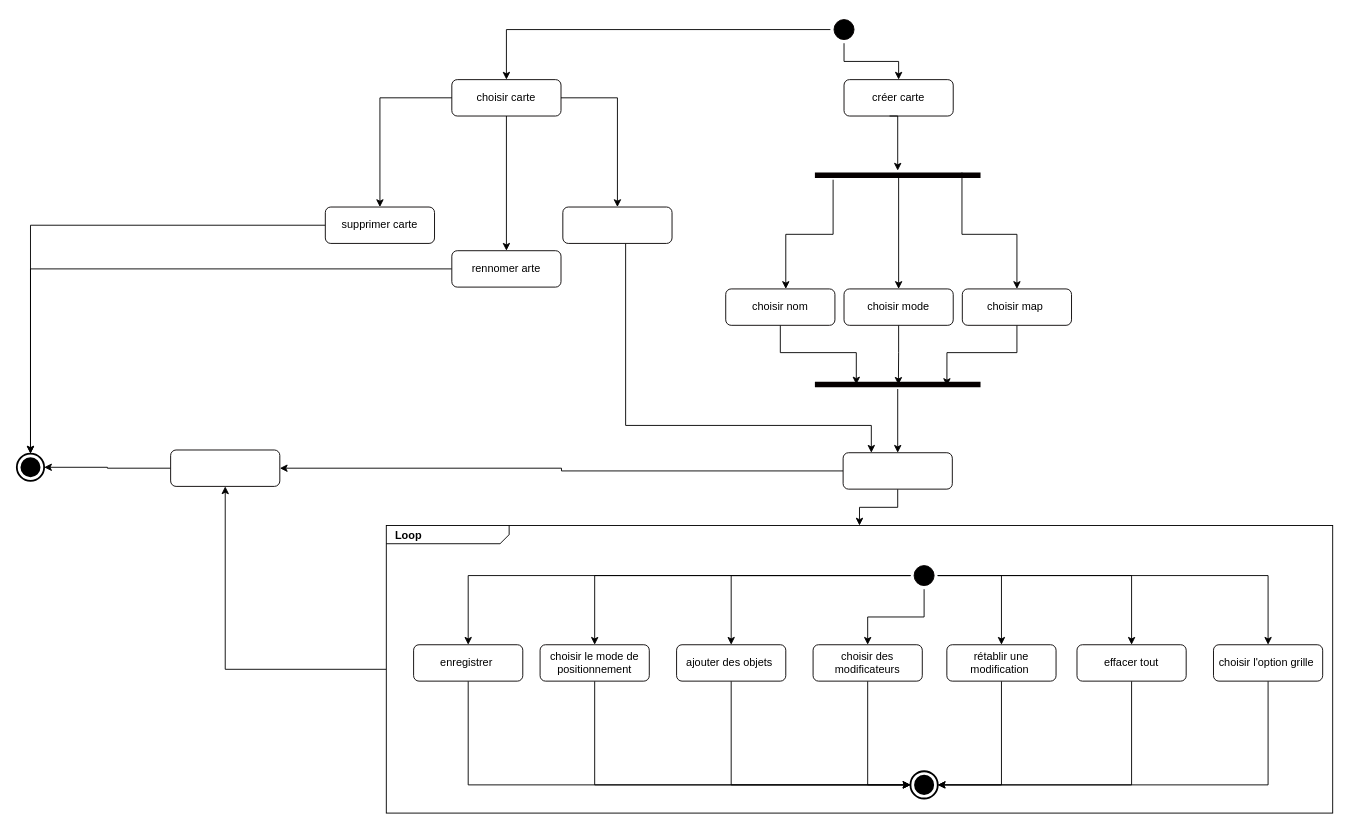
This 1349x829 diagram has some shape labels left out. Here are the shapes that lost their labels. From the top down, the box of each, then its label:
(562, 206, 672, 243): modifier carte
(170, 449, 280, 486): quitter
(842, 452, 952, 489): commencer à construire la map
